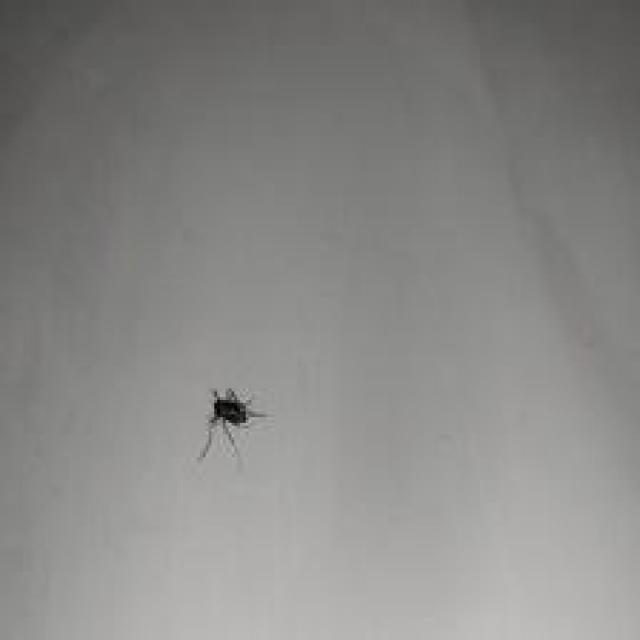Aedes albopictus: (196, 386, 267, 463)
